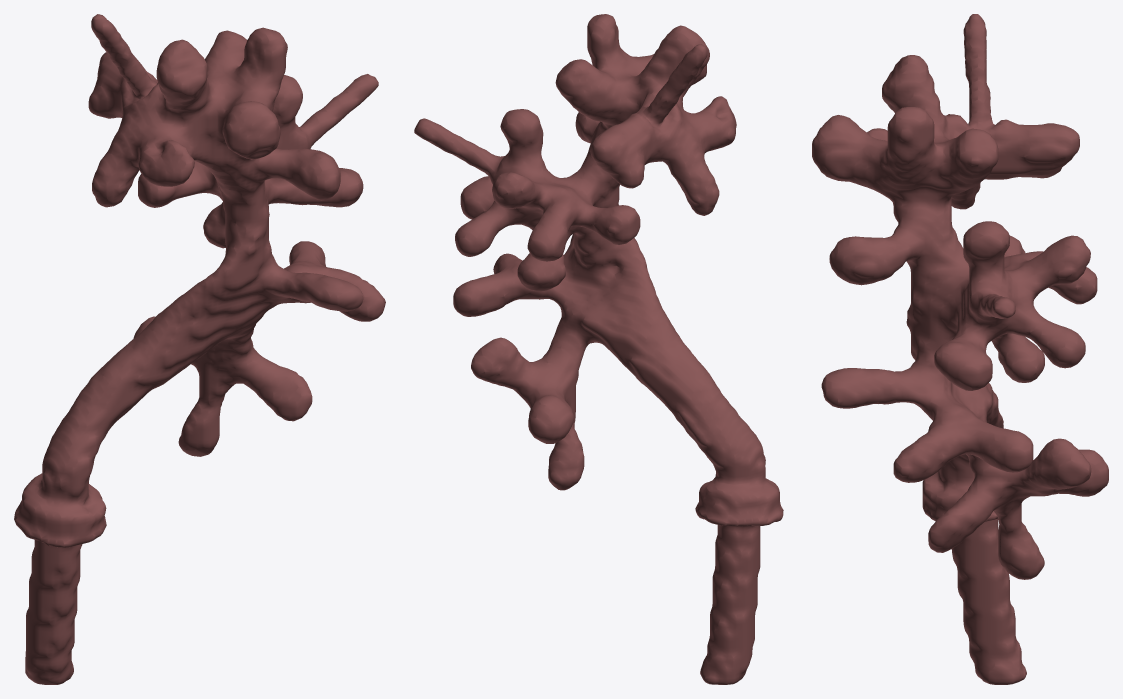
Rendered from kidney_manual_v3.glb.
3 views of the same model, side by side, from view 1: azimuth 30°, elevation 25°; view 2: azimuth 150°, elevation 25°; view 3: azimuth 270°, elevation 25° (orthographic). The views are drawn at different scales.
Parts seen in each view (by area): view 1: KidneyCavity; view 2: KidneyCavity; view 3: KidneyCavity.
Part boxes in pixels (<box>): KidneyCavity: <box>14,14,385,684</box>; KidneyCavity: <box>414,14,783,684</box>; KidneyCavity: <box>812,14,1108,684</box>.
Bounding box in the file's own units: 0.0698 × 0.1188 × 0.0469.
